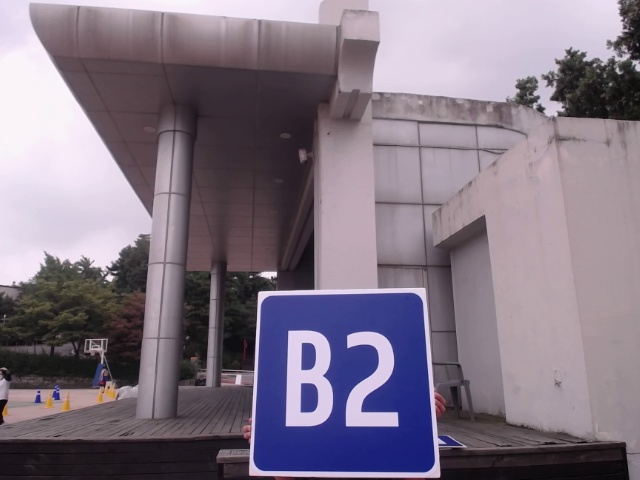delivery_b2: (256, 290, 441, 479)
